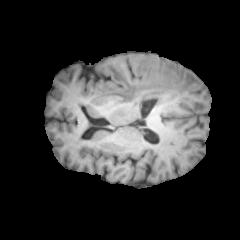glioma: (99, 57, 199, 124)
